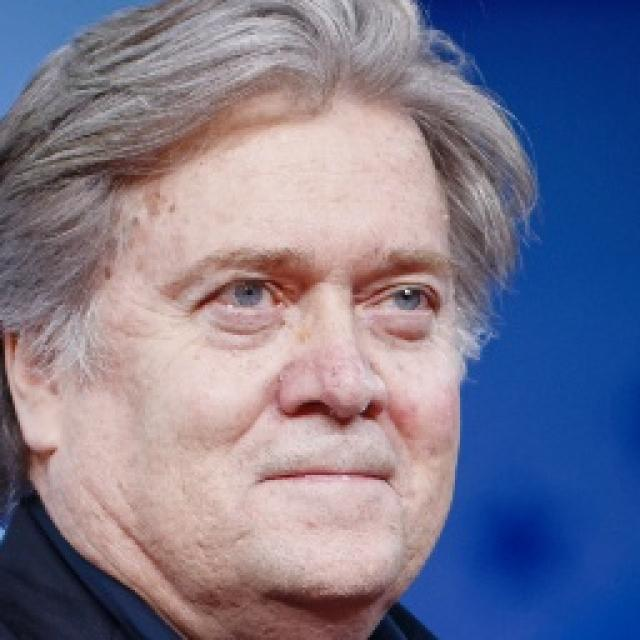earlobe: (4, 318, 61, 455)
